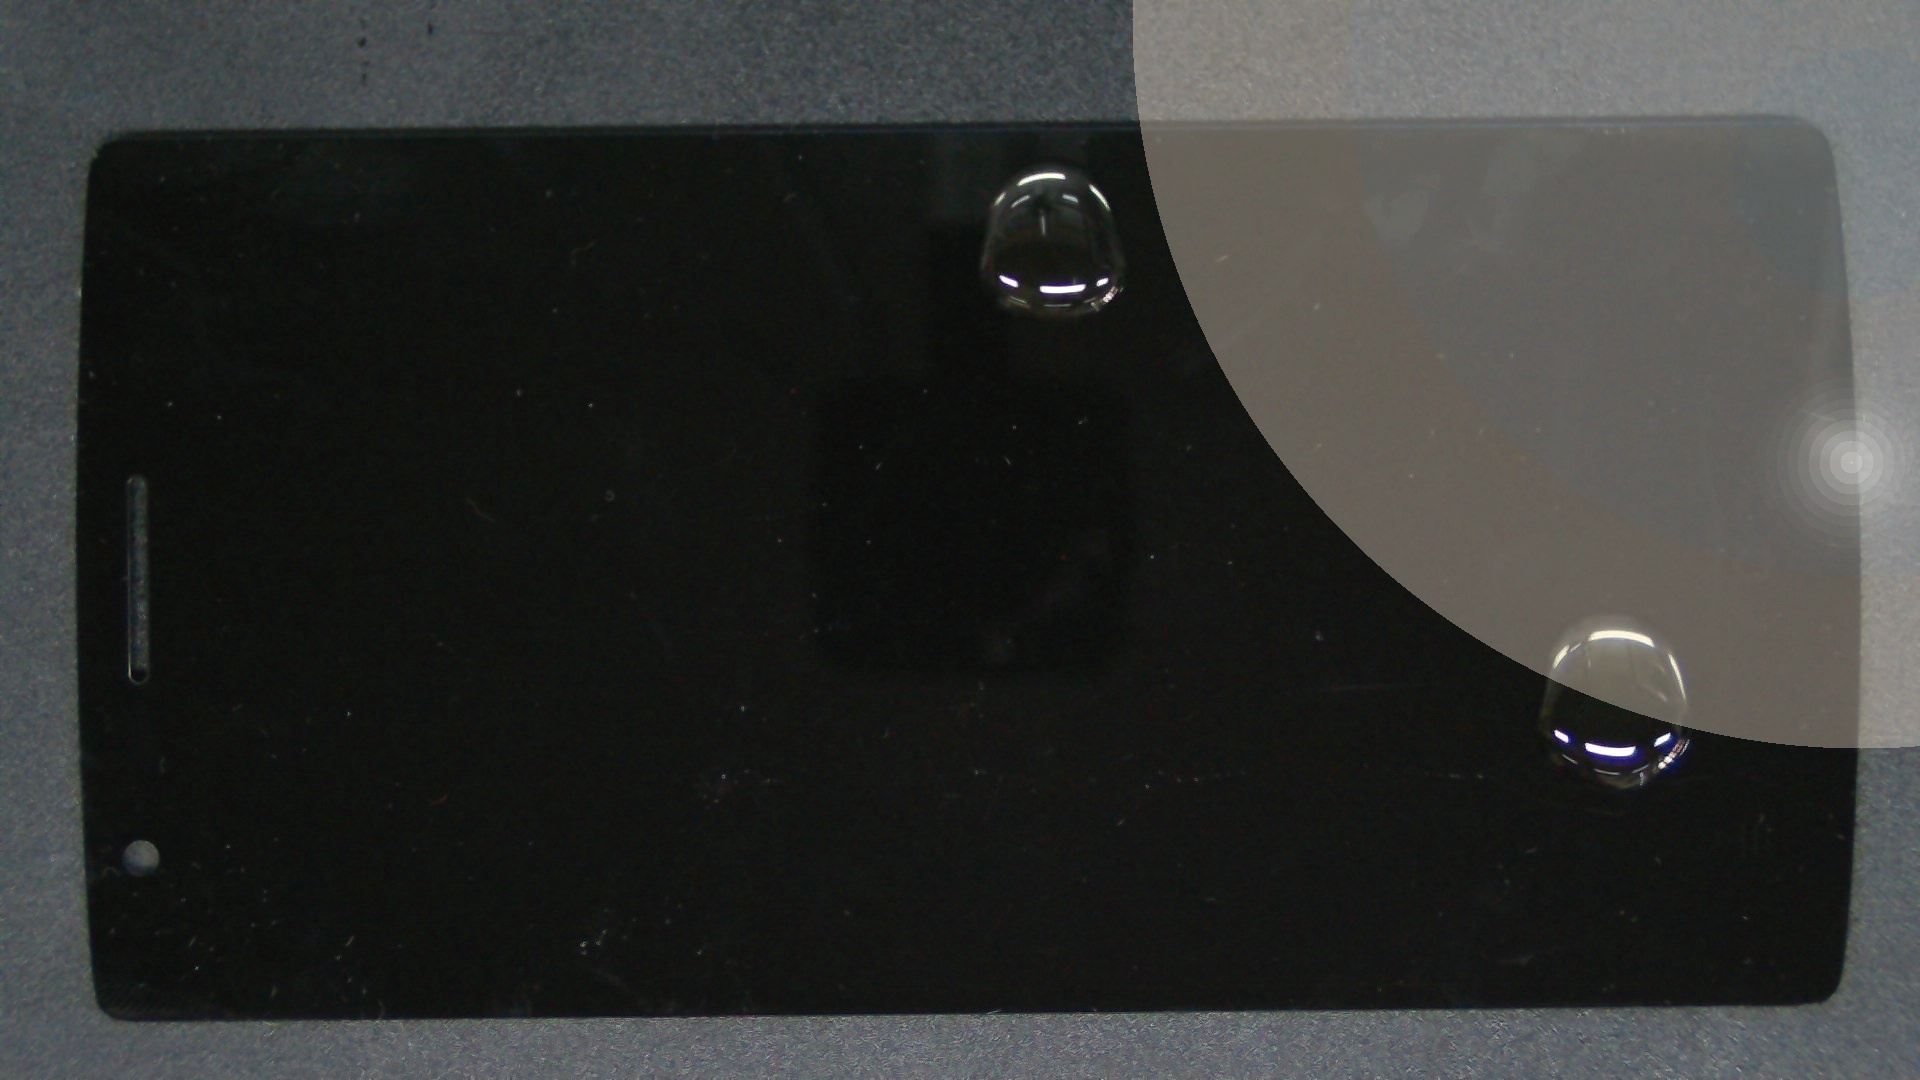oil: (804, 306, 1920, 922), (527, 82, 1578, 247)
